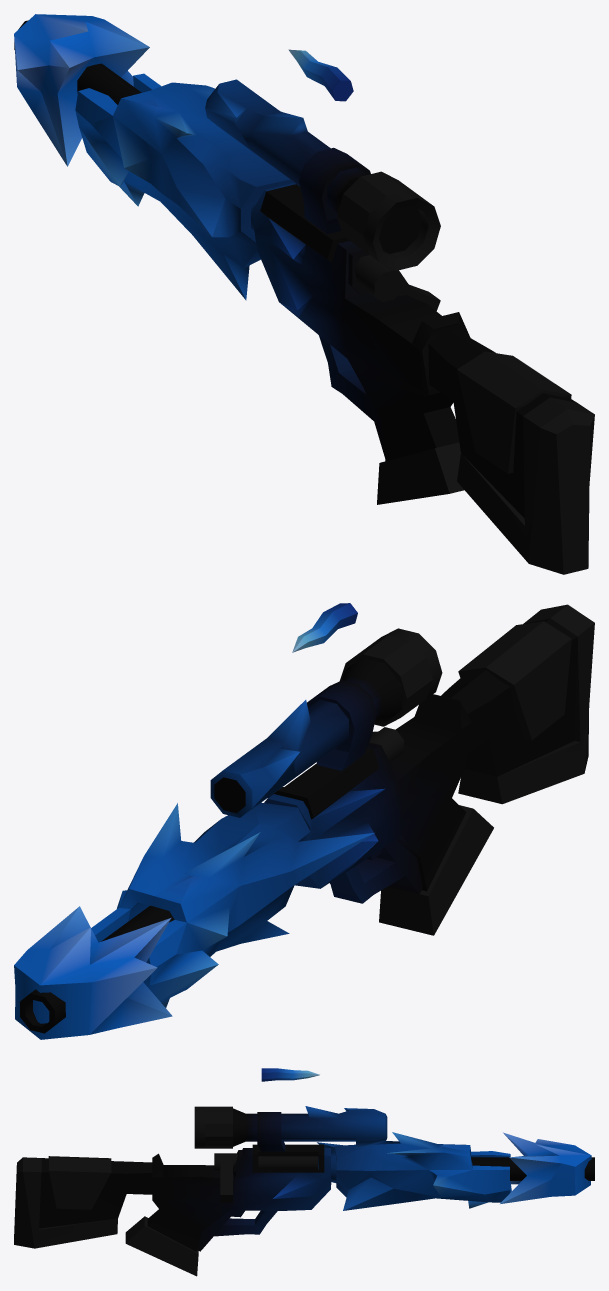
The model's file is thuggin.glb.
3 views of the same model, one above another, from view 1: azimuth 30°, elevation 25°; view 2: azimuth 150°, elevation 25°; view 3: azimuth 270°, elevation 25° (orthographic). The views are drawn at different scales.
Visible parts, largest first — view 1: thuggin.001; view 2: thuggin.001; view 3: thuggin.001.
Part boxes in pixels (bbox=[...]): thuggin.001: bbox=[14, 14, 594, 574]; thuggin.001: bbox=[14, 603, 594, 1039]; thuggin.001: bbox=[14, 1068, 594, 1276].
Size of the model in its own units: 0.0859 by 0.2198 by 0.5766.
